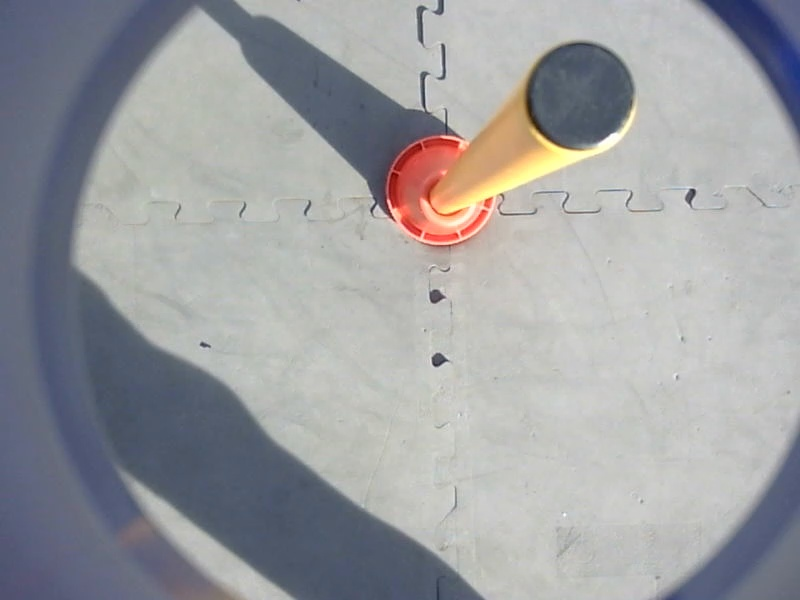tip: (514, 36, 643, 160)
